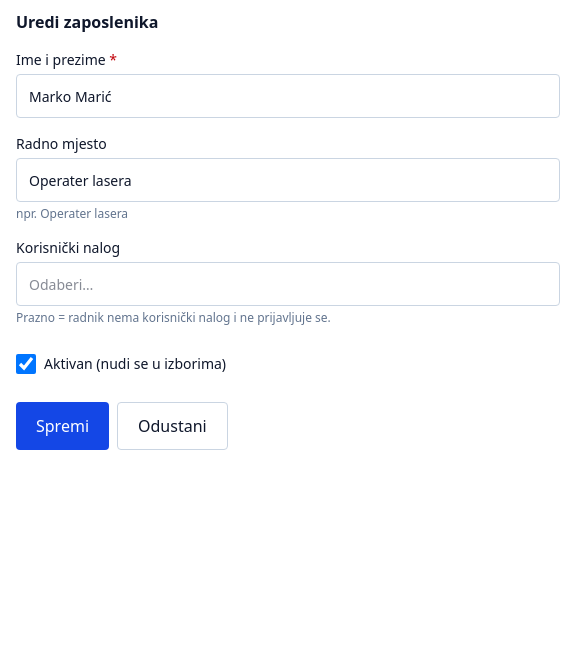
Test: EmployeeFormPage — unsaved changes vs. refetch › keeps unsaved input when a refetch brings newer data, saves with the original version and gets a 409
Replace the text in the field labelled "Radno mjesto" with "Operater lasera i plazme" at (288, 180), box [16,158,560,202]
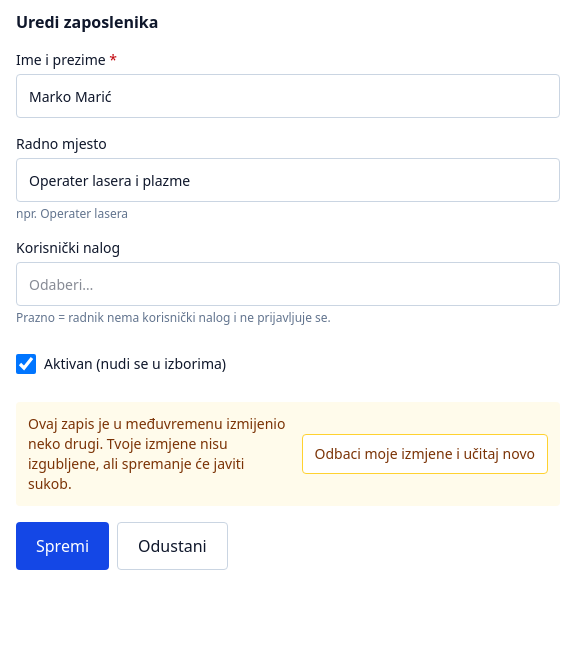
Result: the text "u međuvremenu izmijenio neko drugi" is shown at [28,414,286,493]
// Save sends the version the user started from → conflict, nothing overwritten.
Click the button "Spremi" at (62, 546), box [16,522,109,570]
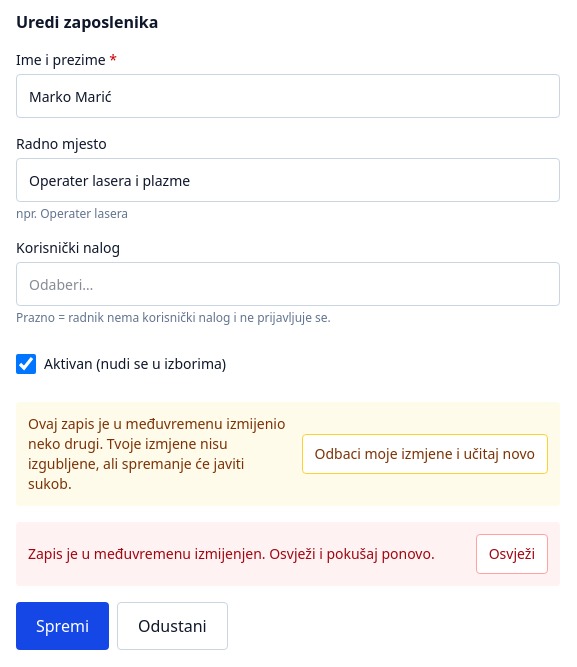
Result: the text "Zapis je u međuvremenu izmijenjen. Osvježi i pokušaj ponovo." is shown at [28,544,464,564]
// "Osvježi" loads the newest data.
Click the button "Osvježi" at (512, 554), box [476,534,548,574]
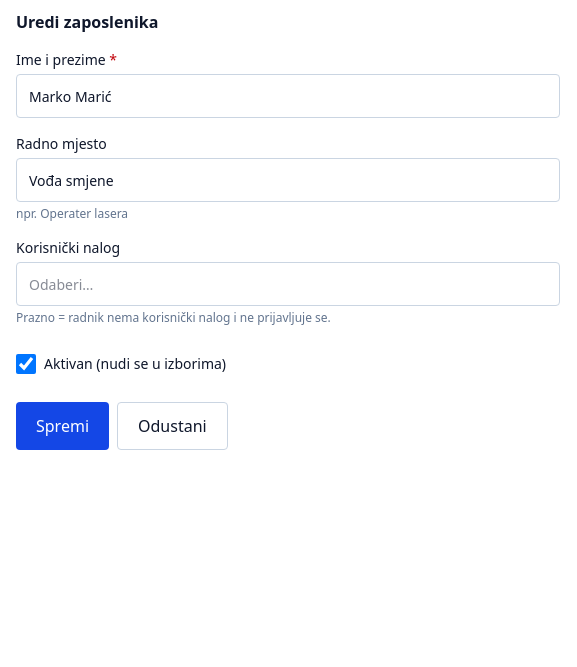
Result: the field labelled "Radno mjesto" holds "Vođa smjene" at [16,158,560,202]
